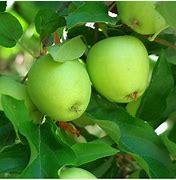apple: (23, 48, 90, 122), (80, 44, 155, 105), (113, 1, 173, 37)
